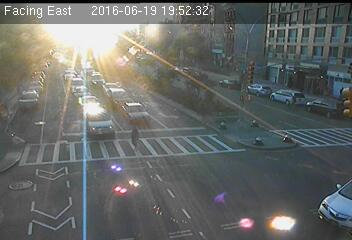neg: (47, 137, 70, 167), (167, 187, 189, 216), (212, 192, 233, 220), (60, 194, 80, 221), (277, 63, 296, 89), (25, 67, 44, 92), (16, 166, 34, 191), (108, 166, 126, 190), (312, 91, 330, 115), (123, 63, 141, 86), (310, 146, 328, 169), (198, 63, 215, 86), (250, 133, 267, 155), (167, 68, 184, 90), (65, 94, 81, 115), (240, 210, 256, 231), (216, 118, 231, 138), (83, 39, 98, 59), (277, 208, 291, 226), (282, 122, 295, 140), (248, 69, 261, 87), (93, 121, 105, 137), (82, 73, 93, 89)
pos: (127, 124, 147, 151)
